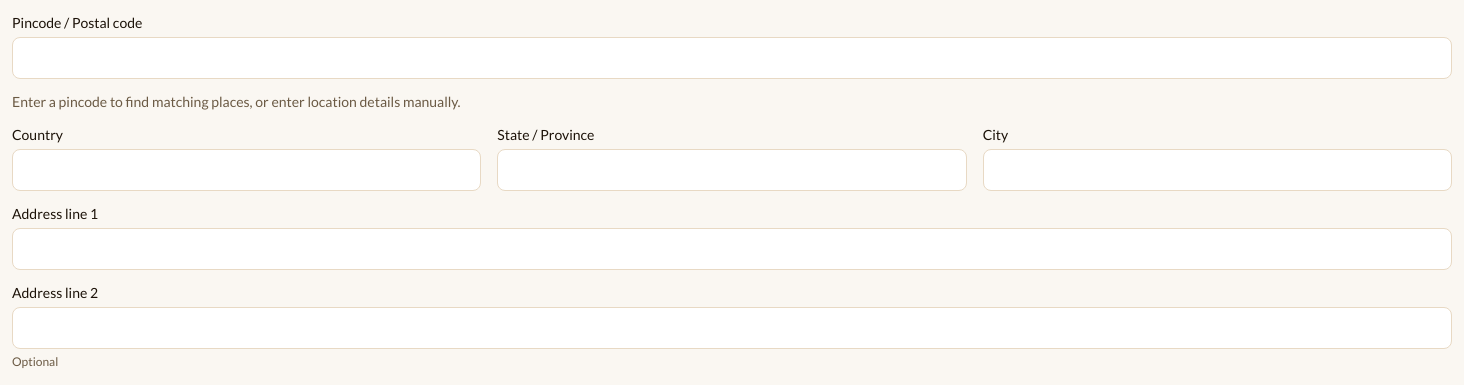
Scenario: MemberAddressFields › surfaces manual-entry guidance for unavailable
This screenshot has width=1464, height=385.
Type "78701" into the field labelled "Pincode / Postal code" at (732, 58), box [13,38,1451,78]
Wait 550 ms
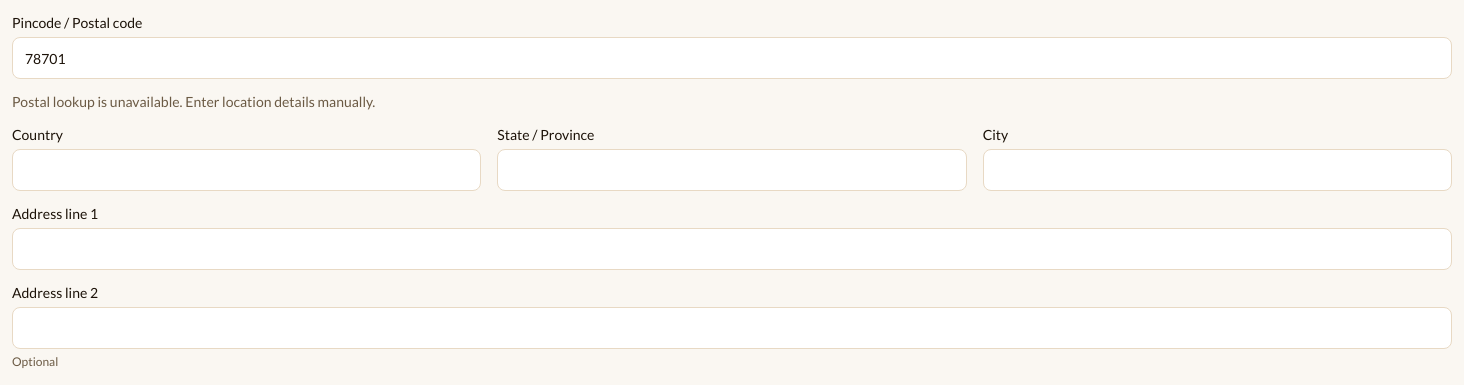
Expected: the field labelled "Country" is shown, [13,150,480,190]
Result: the message shows "lookup is unavailable" at [12,93,375,110]
